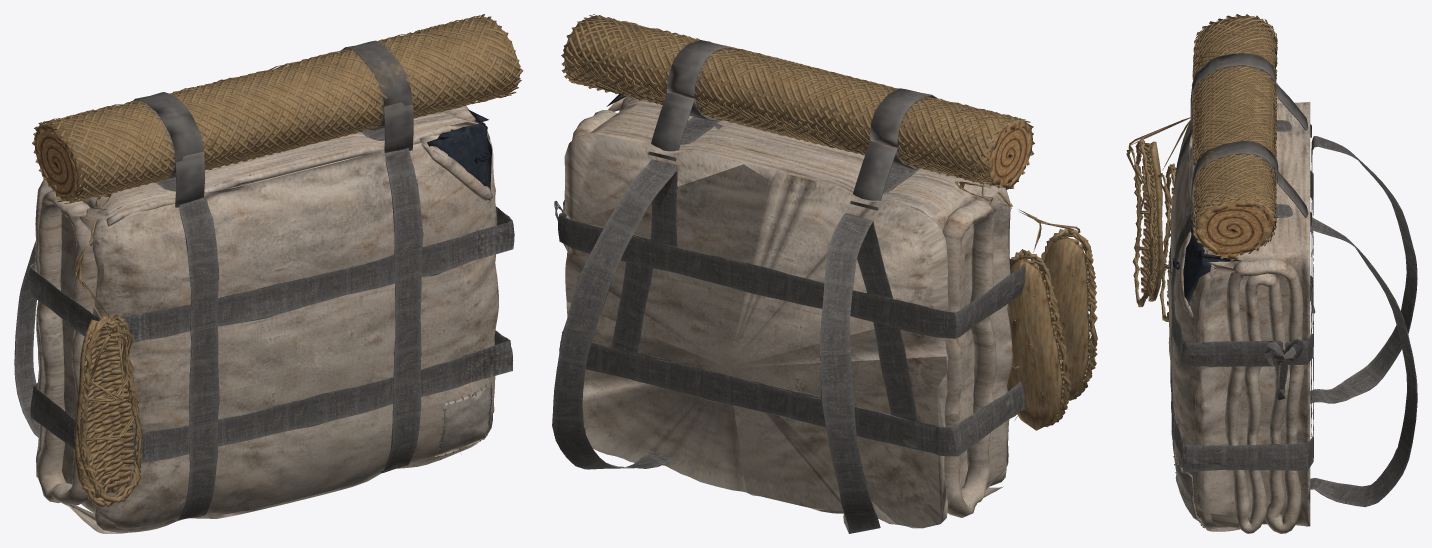
File: Model_SichuanBlanketPack.gltf
3 views of the same model, side by side, from view 1: azimuth 30°, elevation 25°; view 2: azimuth 150°, elevation 25°; view 3: azimuth 270°, elevation 25° (orthographic). The views are drawn at different scales.
Visible parts, largest first — view 1: Pack_Bundle, Pack_Binding, Pack_StrawMat, Pack_Sandals, Pack_Jacket; view 2: Pack_Bundle, Pack_Binding, Pack_StrawMat, Pack_Sandals; view 3: Pack_Bundle, Pack_StrawMat, Pack_Binding, Pack_Sandals, Pack_Jacket.
Boxes of the visible parts, x1,y1,x2,y2 form: Pack_Bundle: (35, 106, 498, 533); Pack_Binding: (14, 127, 514, 520); Pack_StrawMat: (32, 14, 523, 207); Pack_Sandals: (74, 192, 143, 507); Pack_Jacket: (427, 109, 491, 200); Pack_Bundle: (564, 96, 1012, 528); Pack_Binding: (552, 117, 1025, 533); Pack_StrawMat: (561, 14, 1034, 210); Pack_Sandals: (954, 181, 1097, 430); Pack_Bundle: (1167, 98, 1310, 533); Pack_StrawMat: (1190, 14, 1311, 261); Pack_Binding: (1169, 120, 1417, 506); Pack_Sandals: (1126, 117, 1190, 321); Pack_Jacket: (1173, 227, 1241, 313).
Bounding box in the file's own units: 0.4372 × 0.3614 × 0.2686.
Materials: 5 (5 with a texture image).
